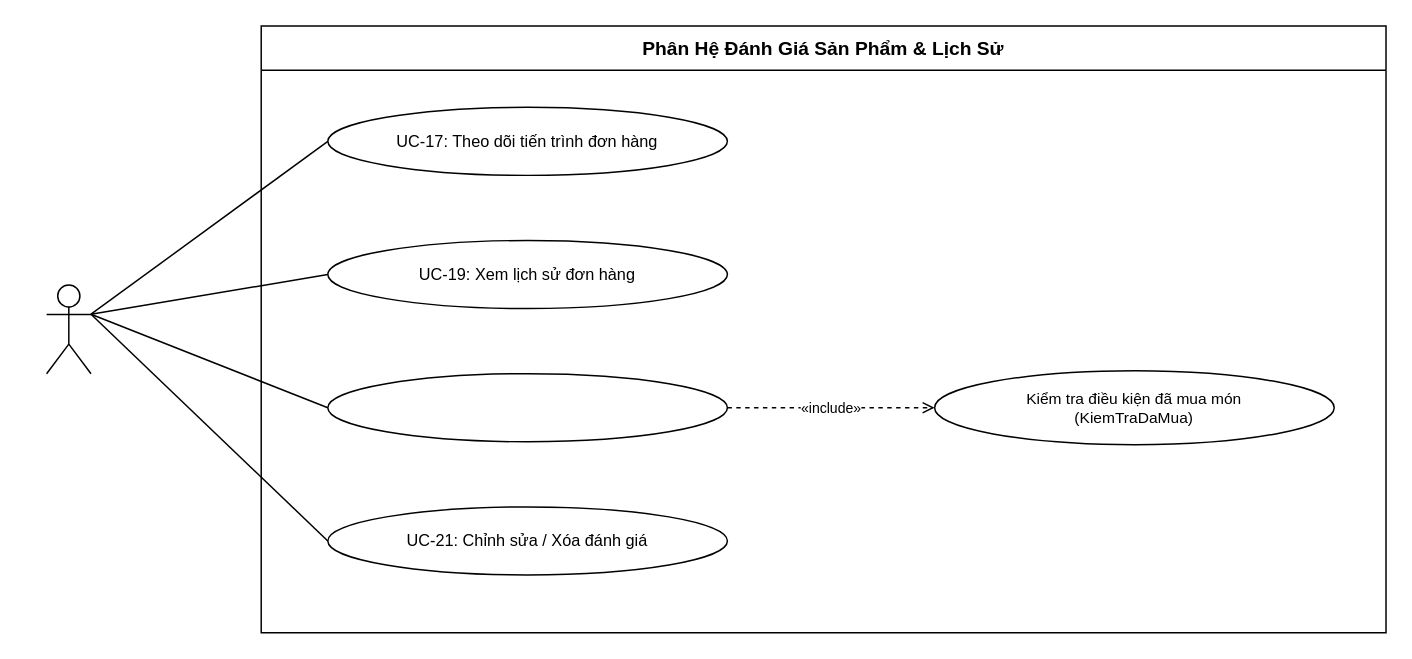
The diagram is 1412 pixels wide and 659 high, and some of its shapes have lost their labels. Here are the shapes that lost their labels. From the top down, the centre of each, then its label:
At (x=68, y=328): "Khách hàng (Customer)".
At (x=526, y=407): "UC-20: Gửi đánh giá sản phẩm đã mua".
